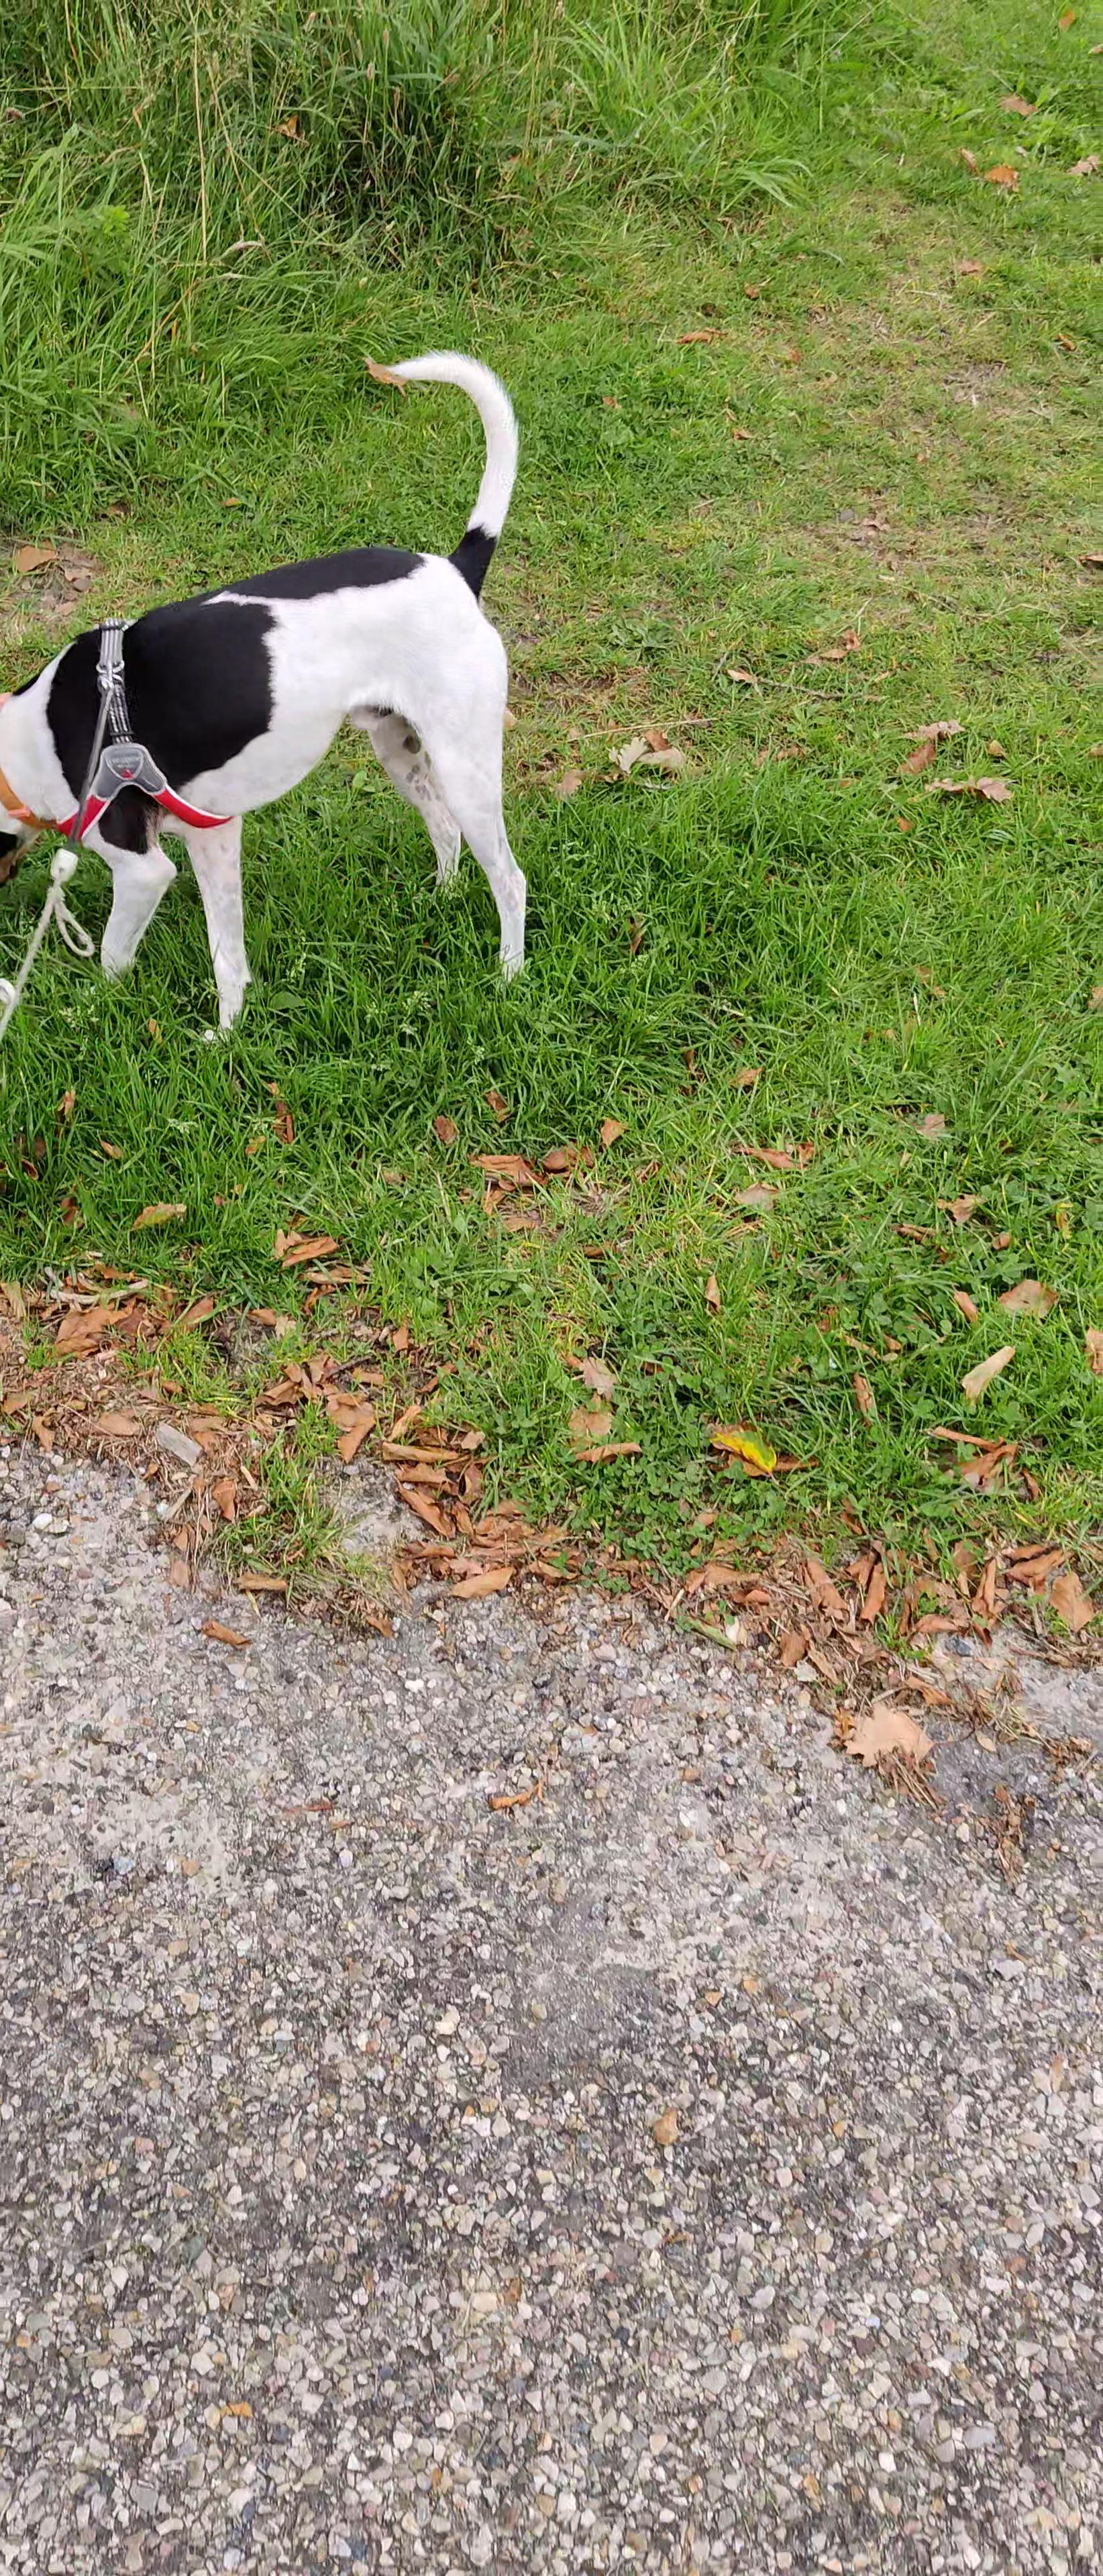Dog: (0, 343, 544, 1043)
